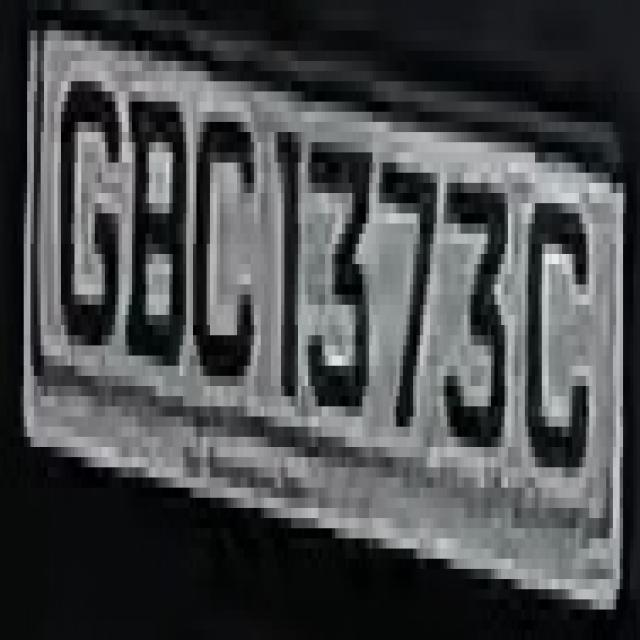1: (264, 101, 308, 416)
3: (298, 112, 376, 437), (444, 152, 508, 488)
7: (366, 101, 437, 478)
B: (118, 91, 196, 396)
C: (518, 173, 589, 508), (190, 81, 260, 416)
G: (51, 61, 125, 376)
